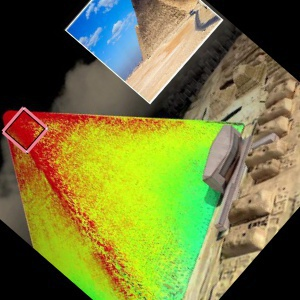square: (2, 105, 50, 152)
